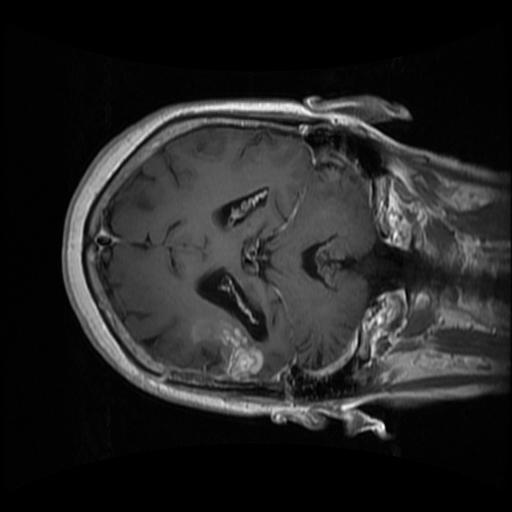glioma: (190, 313, 264, 383)
